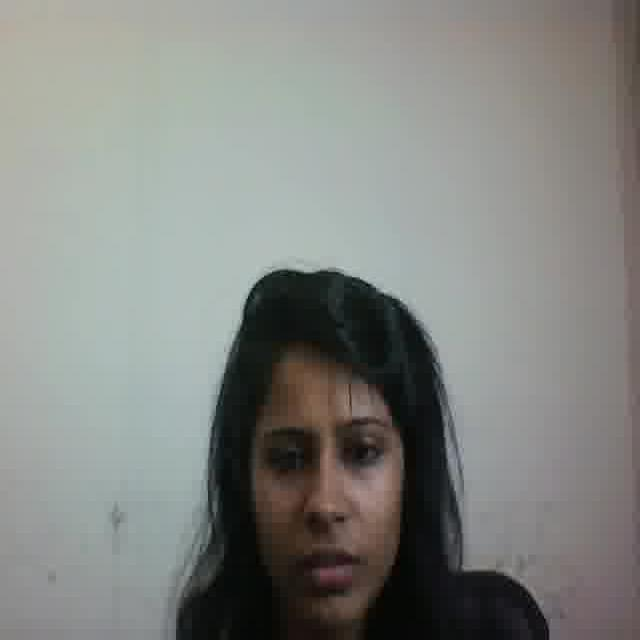Confusion: (240, 348, 401, 627)
